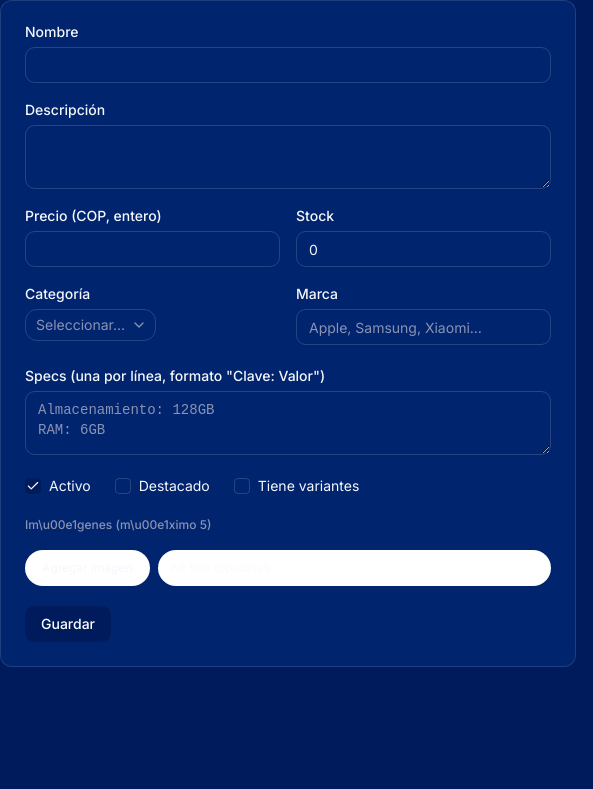
Test case: ProductoForm › exige nombre, precio válido y categoría antes de guardar
Click the button "Guardar": x=68, y=624 [25,606,111,642]
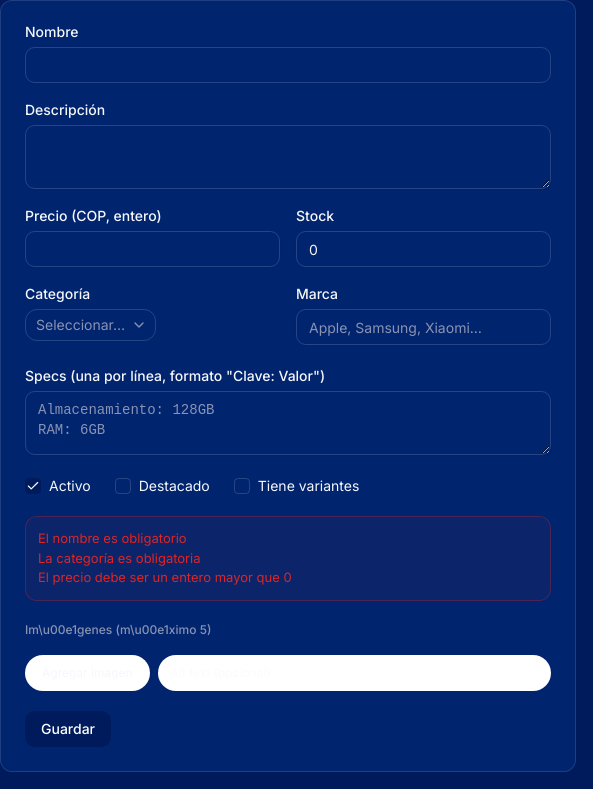
Expected: the list item "El nombre es obligatorio" is shown, [38,530,187,546]
